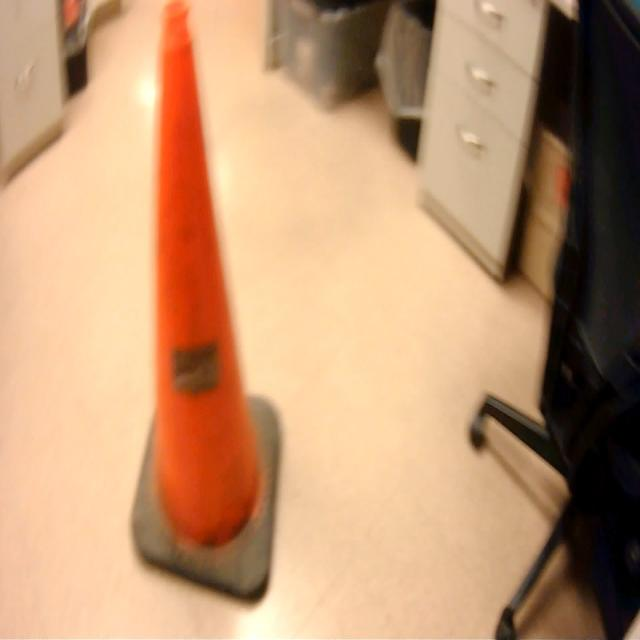traffic cone: (126, 1, 288, 614)
